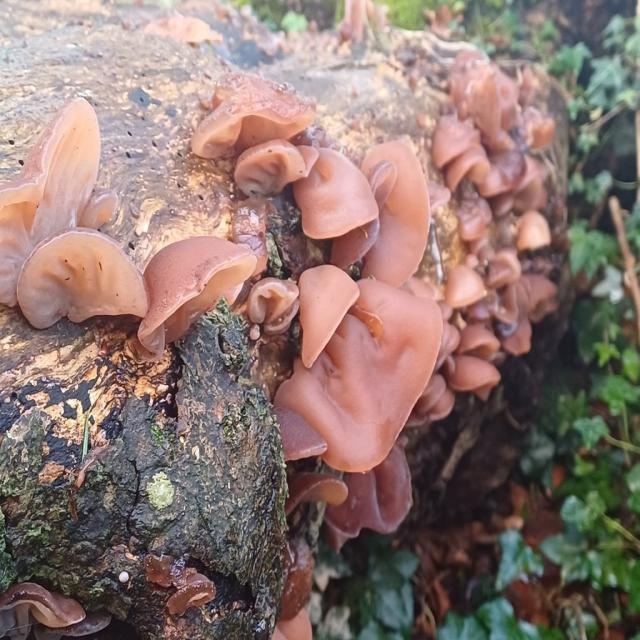Fase Muda: (273, 127, 453, 551), (5, 94, 255, 342), (200, 65, 321, 188)
primordia: (248, 326, 270, 343)
